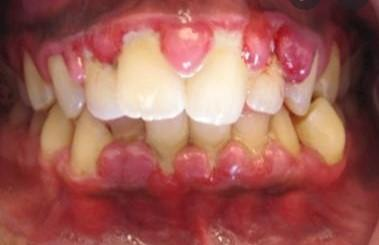Gingivitis: (64, 185, 354, 234), (275, 22, 313, 76), (161, 20, 202, 66), (88, 24, 125, 62)
